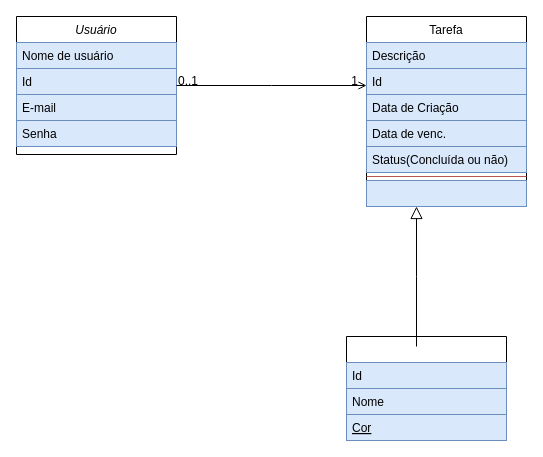
The diagram is 543 pixels wide and 457 high, and some of its shapes have lost their labels. The shapes that lost their labels are listed below. From the top down, each one's box as (x1, y1, x2, y2) in pixels, then its label:
(366, 180, 526, 206): Id do usuário
(346, 336, 506, 440): Prioridade
